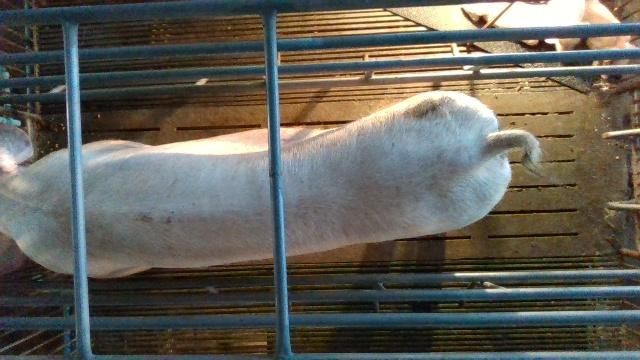piglet: (462, 2, 588, 48), (585, 0, 632, 66)
sow-stand-feed: (0, 90, 543, 279)
